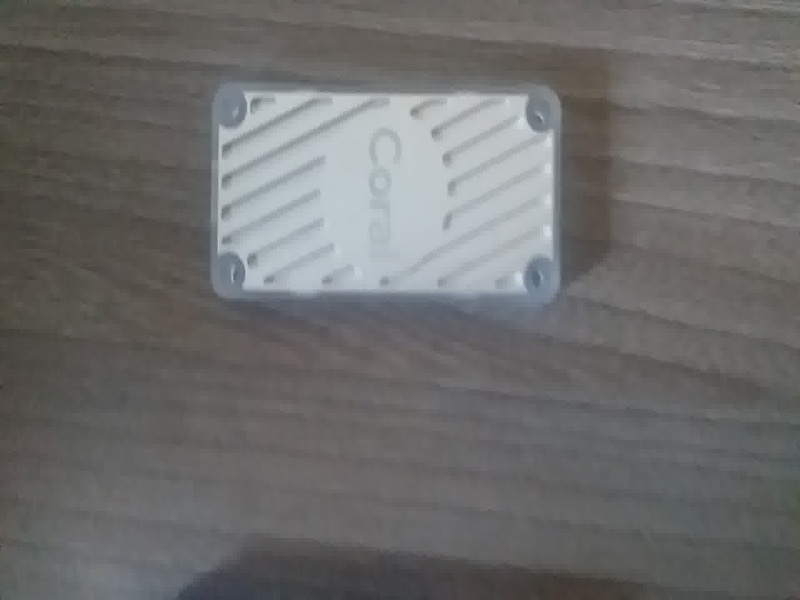coral: (201, 77, 576, 316)
